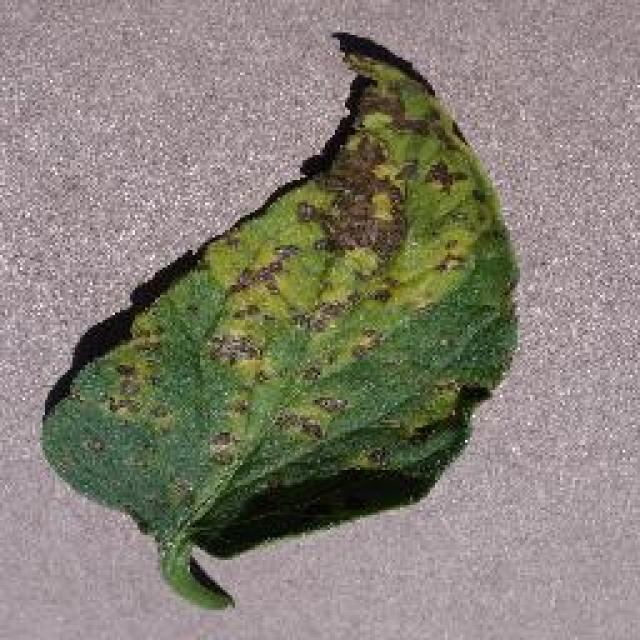Tomato___Septoria_leaf_spot: (42, 35, 518, 605)
